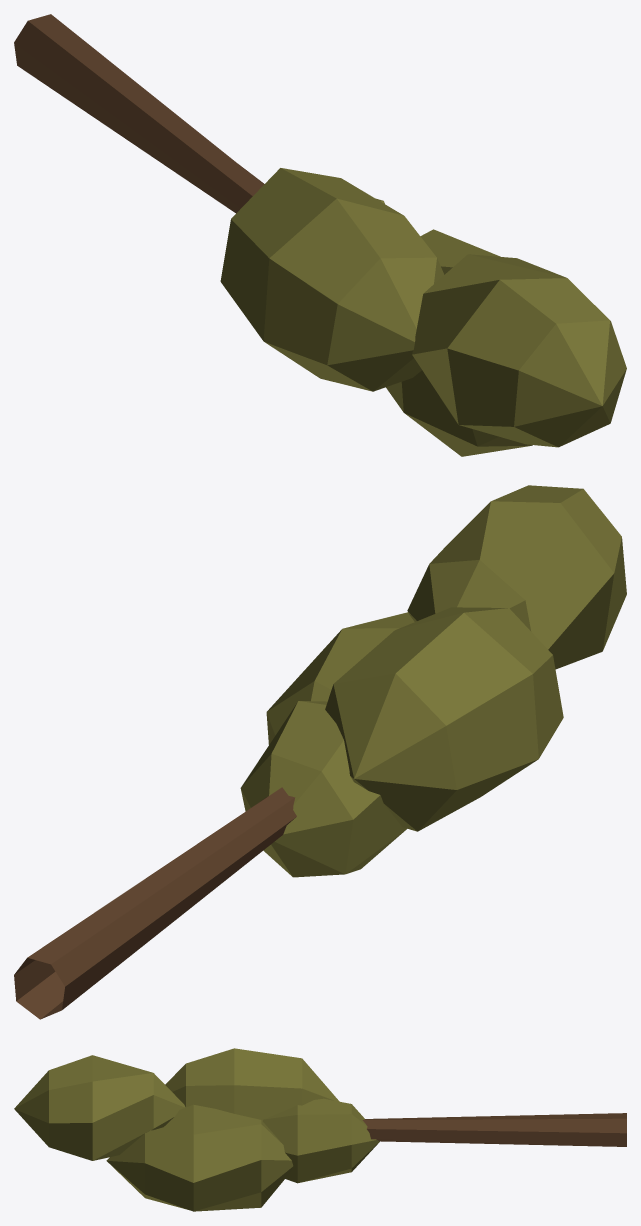
File: dying_0.glb
3 renders of one model, top to bottom at view 1: azimuth 30°, elevation 25°; view 2: azimuth 150°, elevation 25°; view 3: azimuth 270°, elevation 25°, orthographic. The views are drawn at different scales.
Parts seen in each view (by area): view 1: tree_00_dying_0; view 2: tree_00_dying_0; view 3: tree_00_dying_0.
Part boxes in pixels (x1,y1,x2,y2): tree_00_dying_0: [14, 14, 626, 456]; tree_00_dying_0: [14, 485, 626, 1019]; tree_00_dying_0: [14, 1048, 626, 1211].
Bounding box in the file's own units: 10.51 × 9.58 × 37.52.
